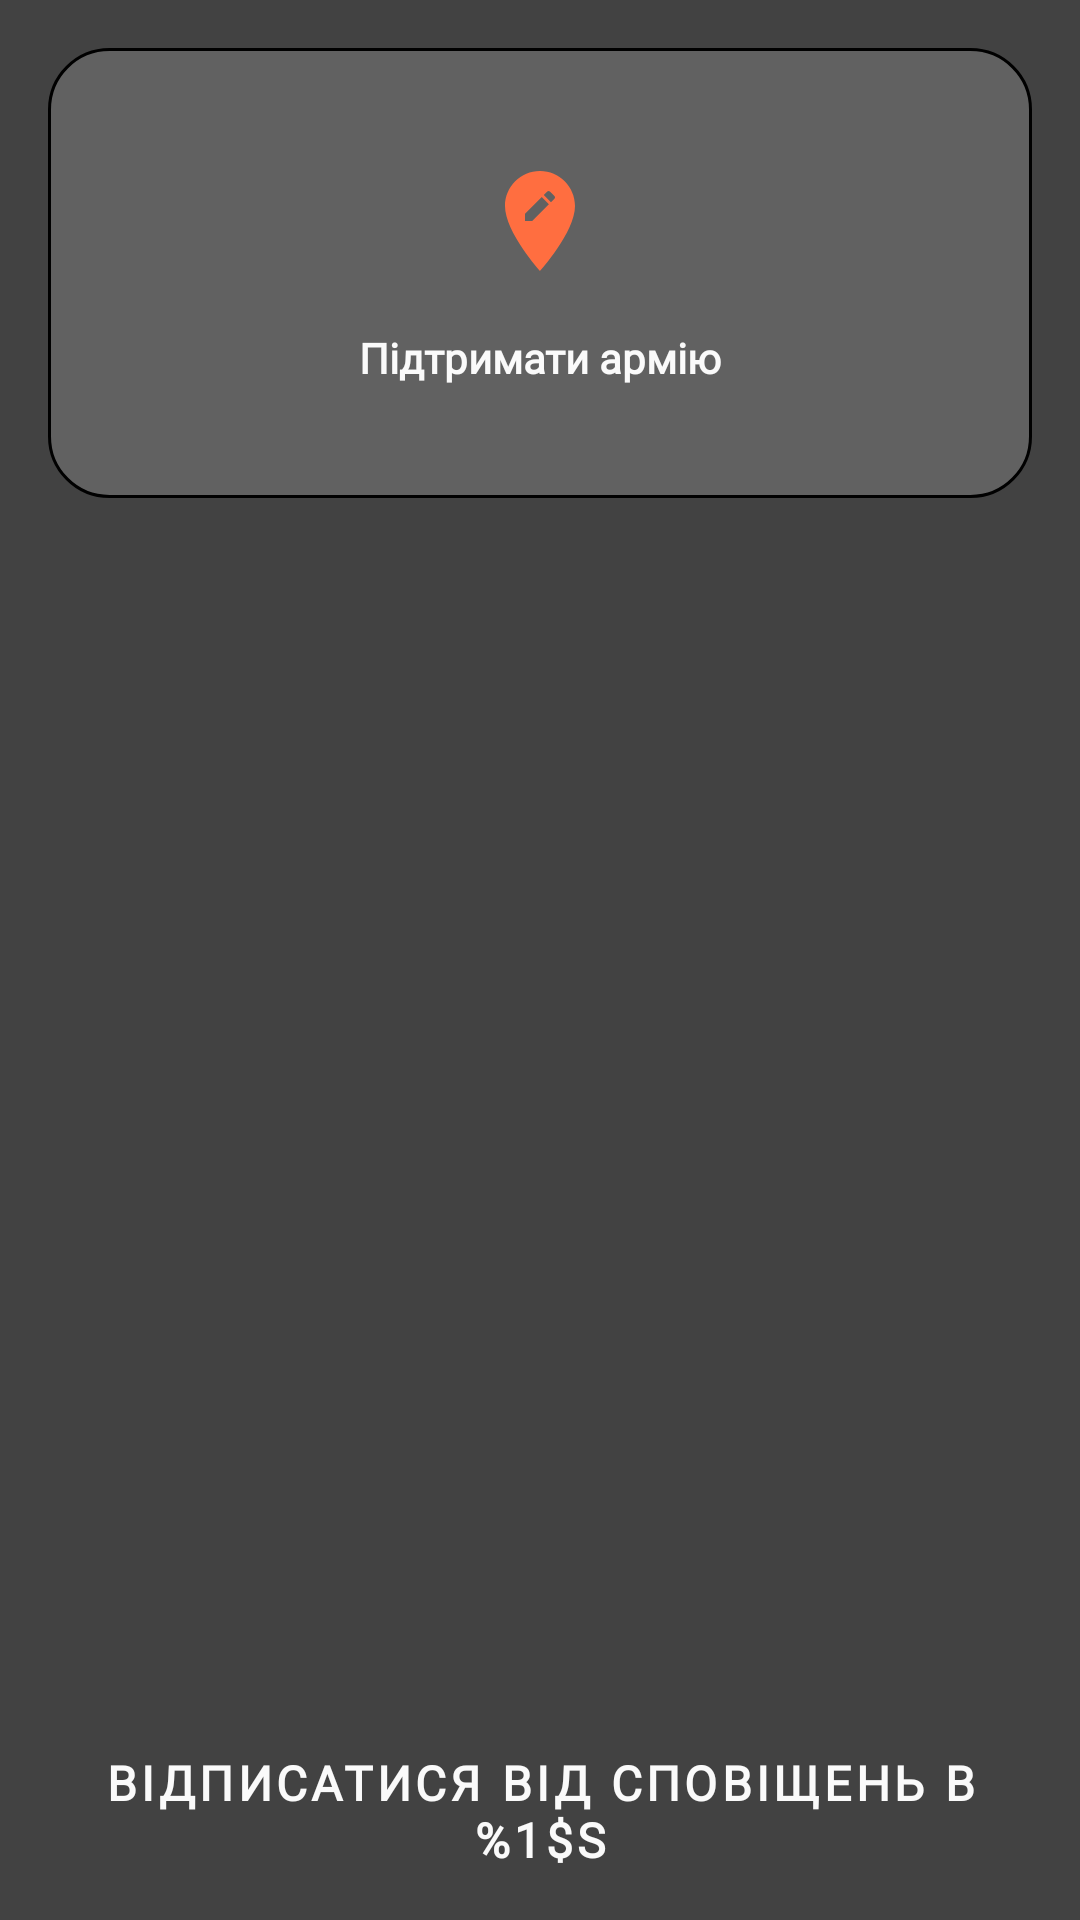

Where icons sit on this 1080w x 1920h app screen, as (x1, y1, x2, y2):
edit location: (505, 171, 575, 271)
